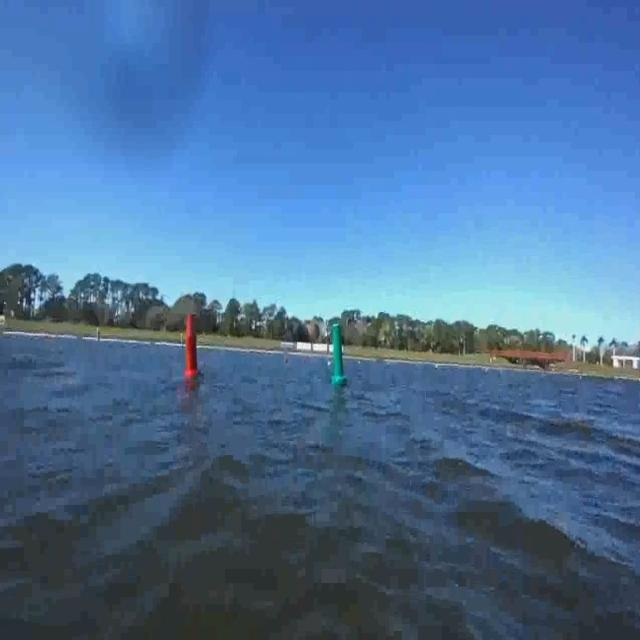green-column-buoy: (331, 322, 350, 387)
red-column-buoy: (182, 314, 200, 378)
